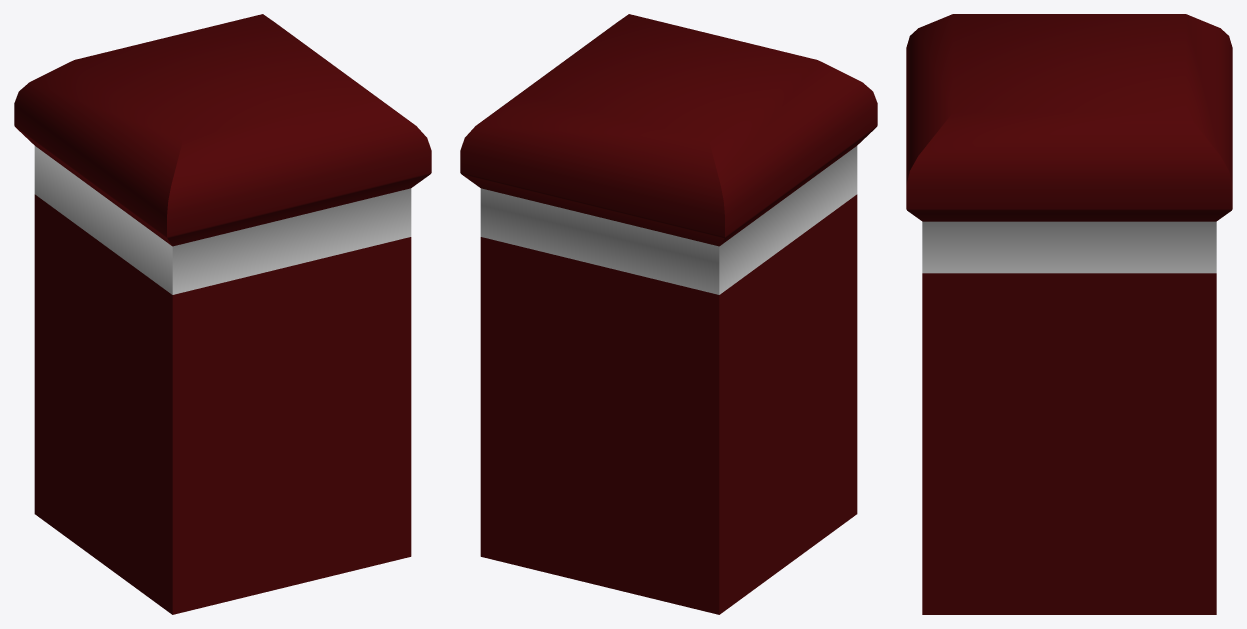
File: bin.fbx
3 renders of one model, left to right at view 1: azimuth 30°, elevation 25°; view 2: azimuth 150°, elevation 25°; view 3: azimuth 270°, elevation 25°, orthographic. The views are drawn at different scales.
Visible parts, largest first — view 1: bin; view 2: bin; view 3: bin.
Boxes of the visible parts, <box> form: bin: <box>14,14,431,614</box>; bin: <box>460,14,877,614</box>; bin: <box>906,14,1232,614</box>.
Bounding box in the file's own units: 86.82 × 144 × 86.82.
